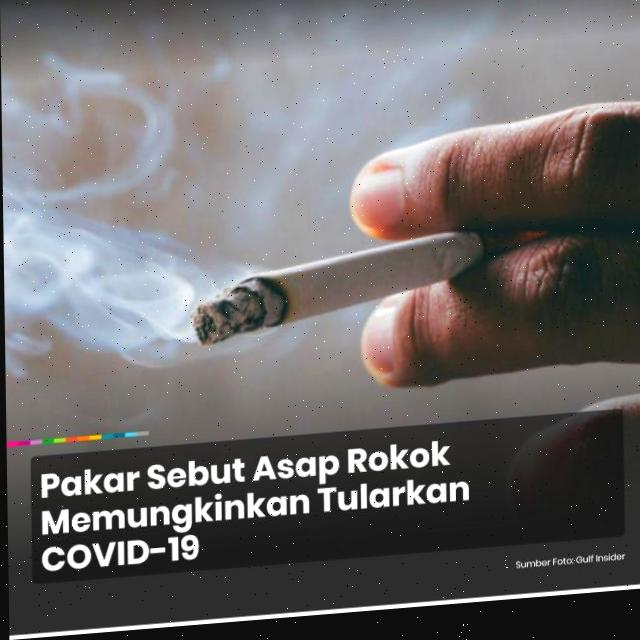cigarette: (193, 233, 509, 351)
